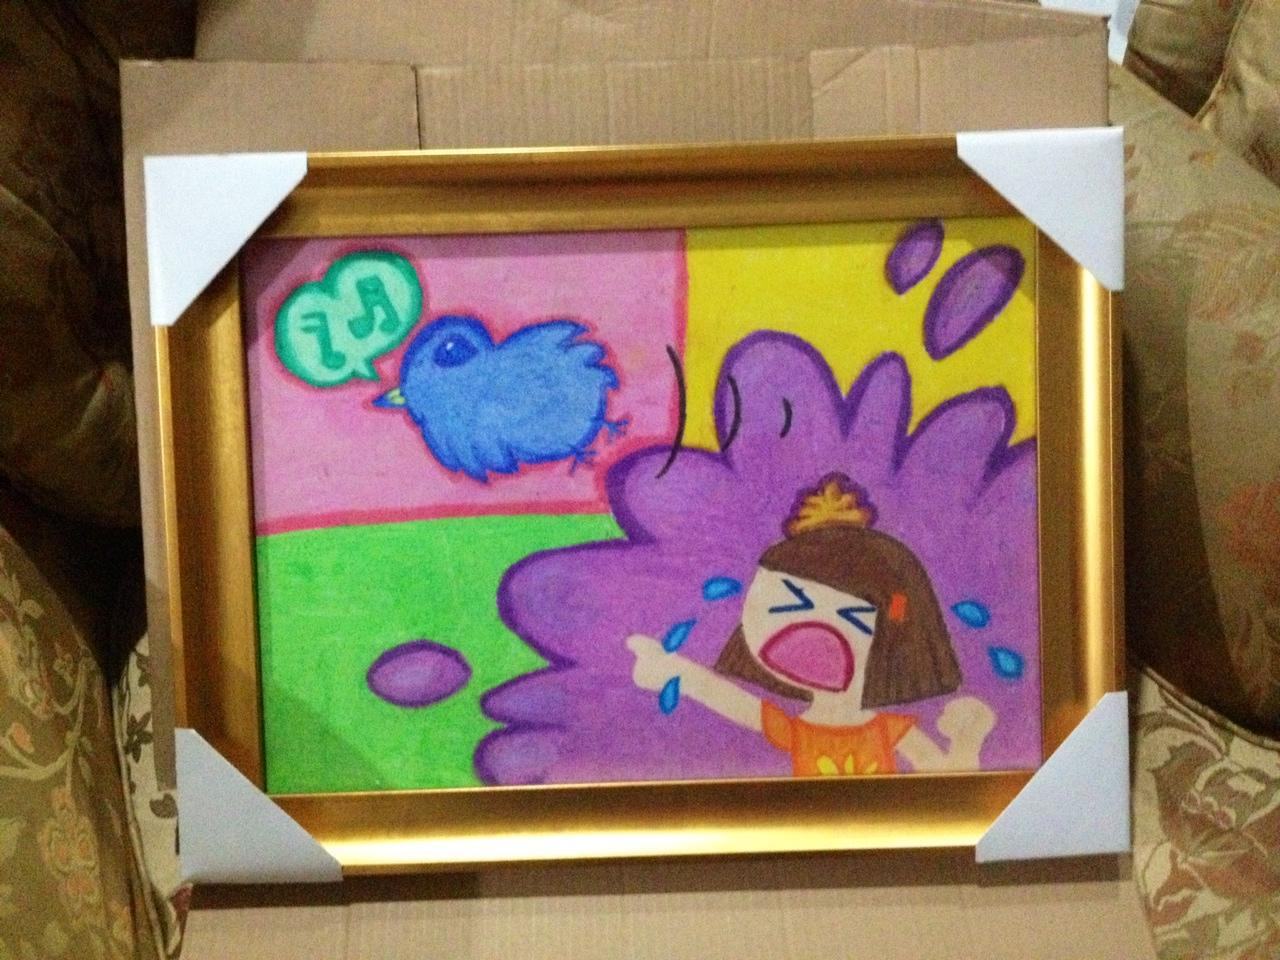lukisan: (148, 146, 1135, 860)
